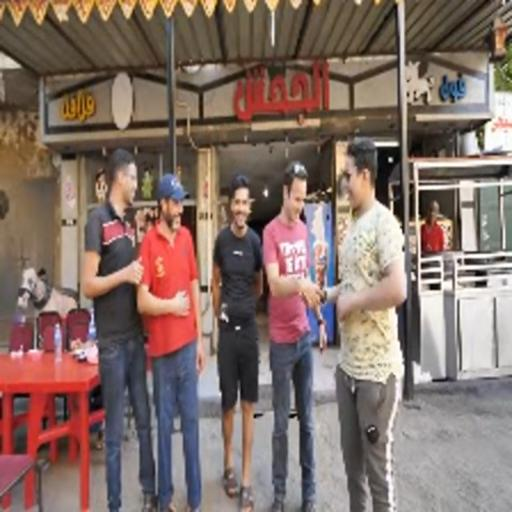nao-violencia: (256, 130, 419, 512), (66, 133, 213, 512)
